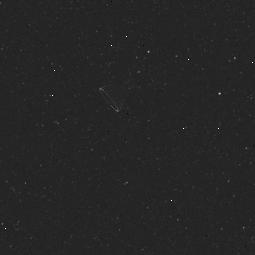debris: (96, 67, 162, 117)
